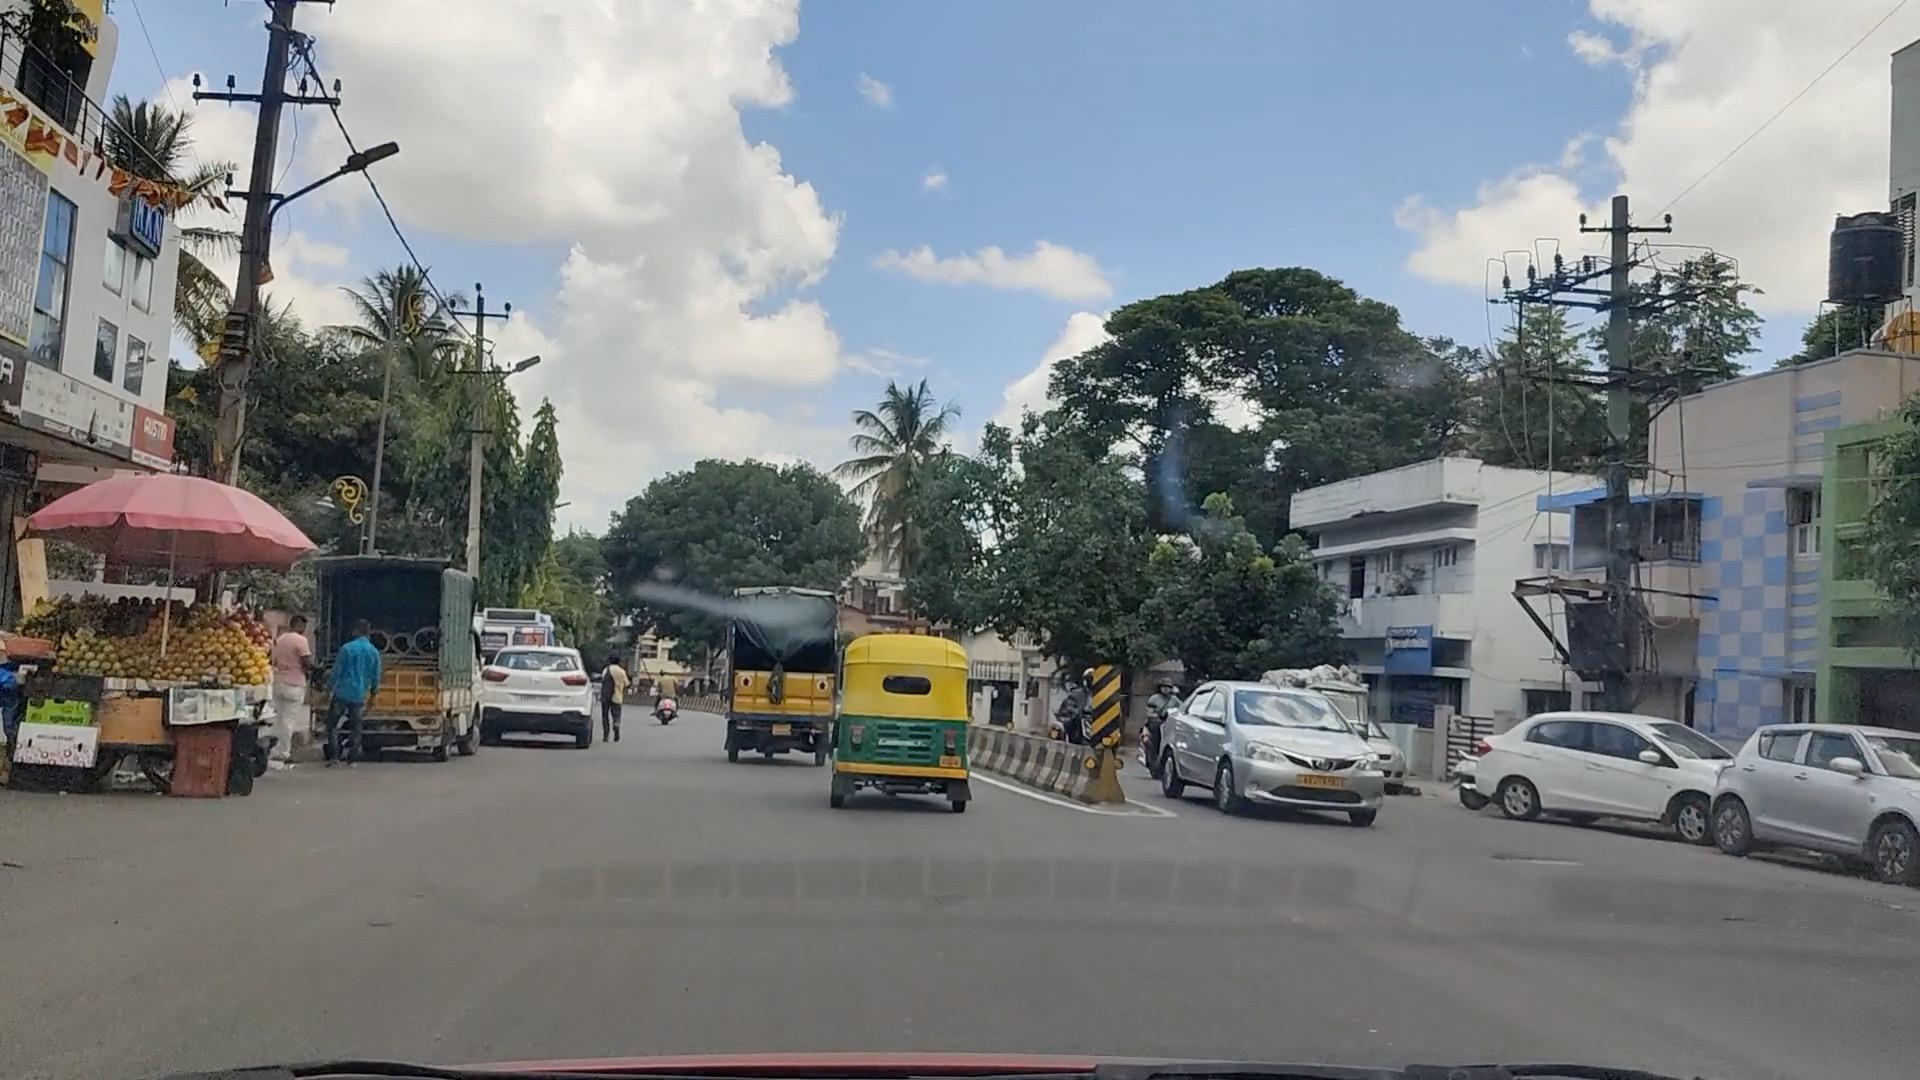LMV: (836, 637, 965, 808)
